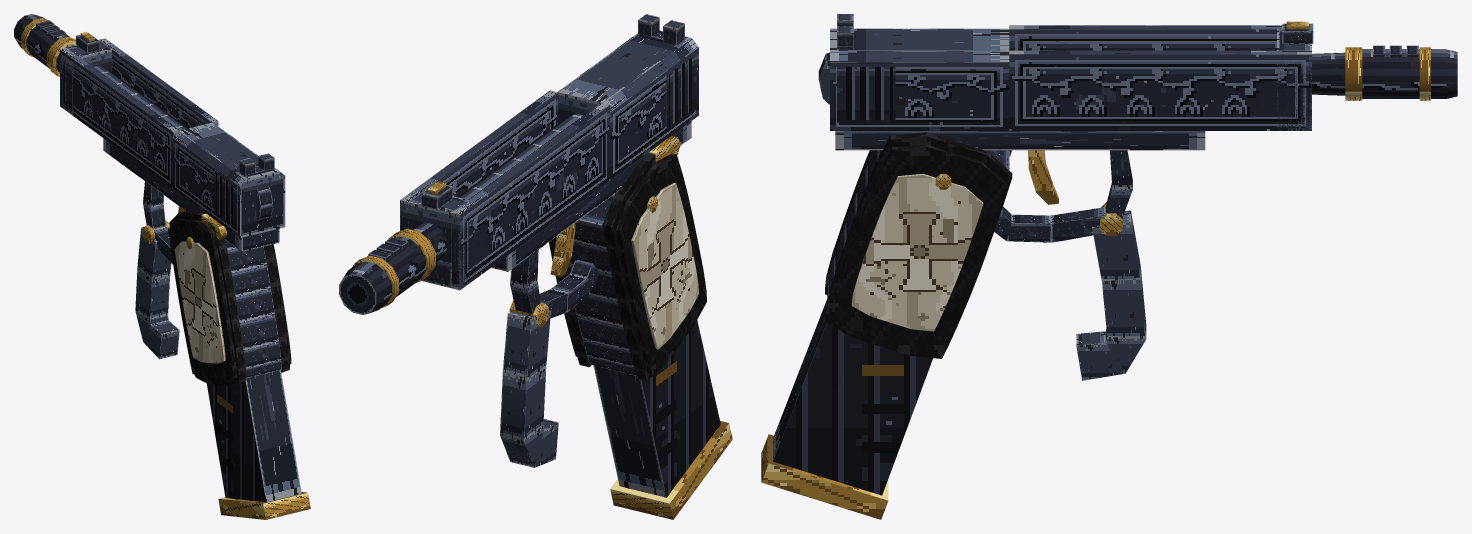
The model's file is pistol_machine_base.glb.
3 renders of one model, left to right at view 1: azimuth 30°, elevation 25°; view 2: azimuth 150°, elevation 25°; view 3: azimuth 270°, elevation 25°, orthographic. The views are drawn at different scales.
Visible parts, largest first — view 1: frame, slide, magazine; view 2: frame, slide, magazine; view 3: frame, slide, magazine.
Boxes of the visible parts, bbox=[...] form: frame: bbox=[14, 14, 291, 385]; slide: bbox=[60, 31, 285, 238]; magazine: bbox=[207, 370, 310, 519]; frame: bbox=[339, 113, 706, 467]; slide: bbox=[400, 14, 698, 290]; magazine: bbox=[593, 320, 732, 519]; frame: bbox=[818, 45, 1457, 380]; slide: bbox=[830, 14, 1313, 130]; magazine: bbox=[761, 299, 932, 519].
Bounding box in the file's own units: 0.0344 × 0.1897 × 0.2484.
2 materials, 2 textured.
